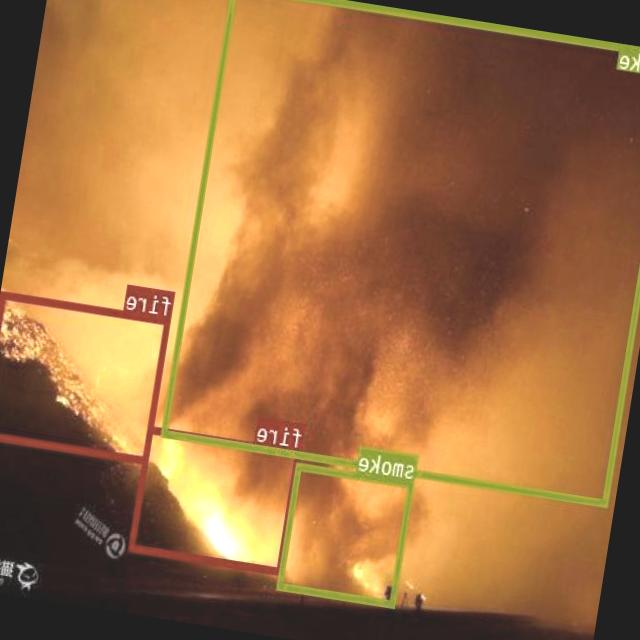fire: (0, 289, 172, 462), (129, 425, 302, 575)
smoke: (163, 0, 640, 506), (278, 462, 416, 608)
